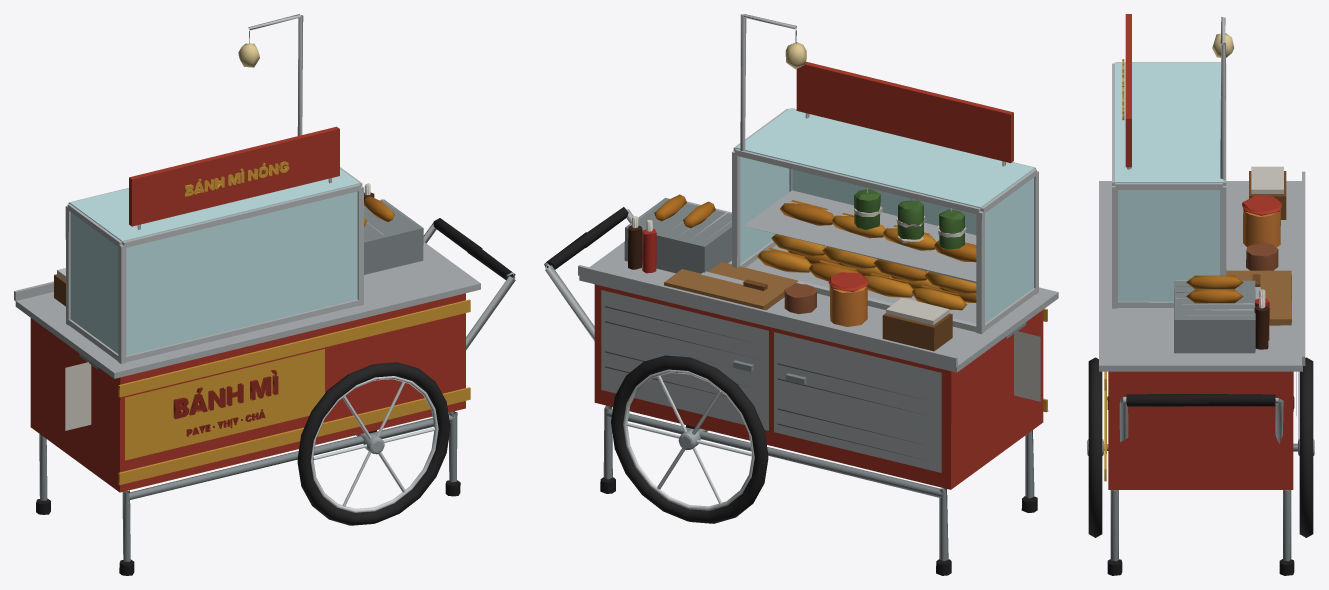
File: xe_banh_mi_day.glb
3 views of the same model, side by side, from view 1: azimuth 30°, elevation 25°; view 2: azimuth 150°, elevation 25°; view 3: azimuth 270°, elevation 25° (orthographic). The views are drawn at different scales.
Visible parts, largest first — view 1: than.001, kinh, banh_xe_R.001; view 2: than.001, kinh, banh_xe_L.001; view 3: than.001, kinh, banh_xe_R.001, banh_xe_L.001.
Boxes of the visible parts, x1,y1,x2,y2 form: than.001: (14, 14, 515, 575); kinh: (70, 169, 359, 355); banh_xe_R.001: (297, 362, 450, 525); than.001: (544, 14, 1058, 575); kinh: (736, 108, 1034, 323); banh_xe_L.001: (611, 355, 768, 523); than.001: (1099, 14, 1305, 575); kinh: (1114, 62, 1223, 301); banh_xe_R.001: (1087, 357, 1103, 537); banh_xe_L.001: (1298, 357, 1314, 537).
Size of the model in its own units: 1.85 by 1.92 by 0.82.
